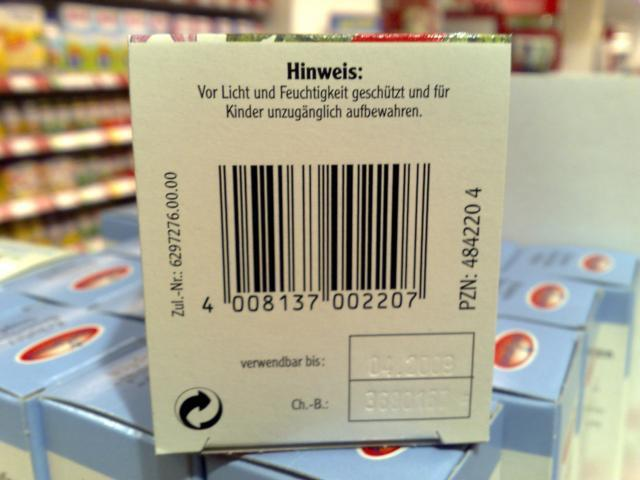Barcode: (188, 150, 452, 328)
